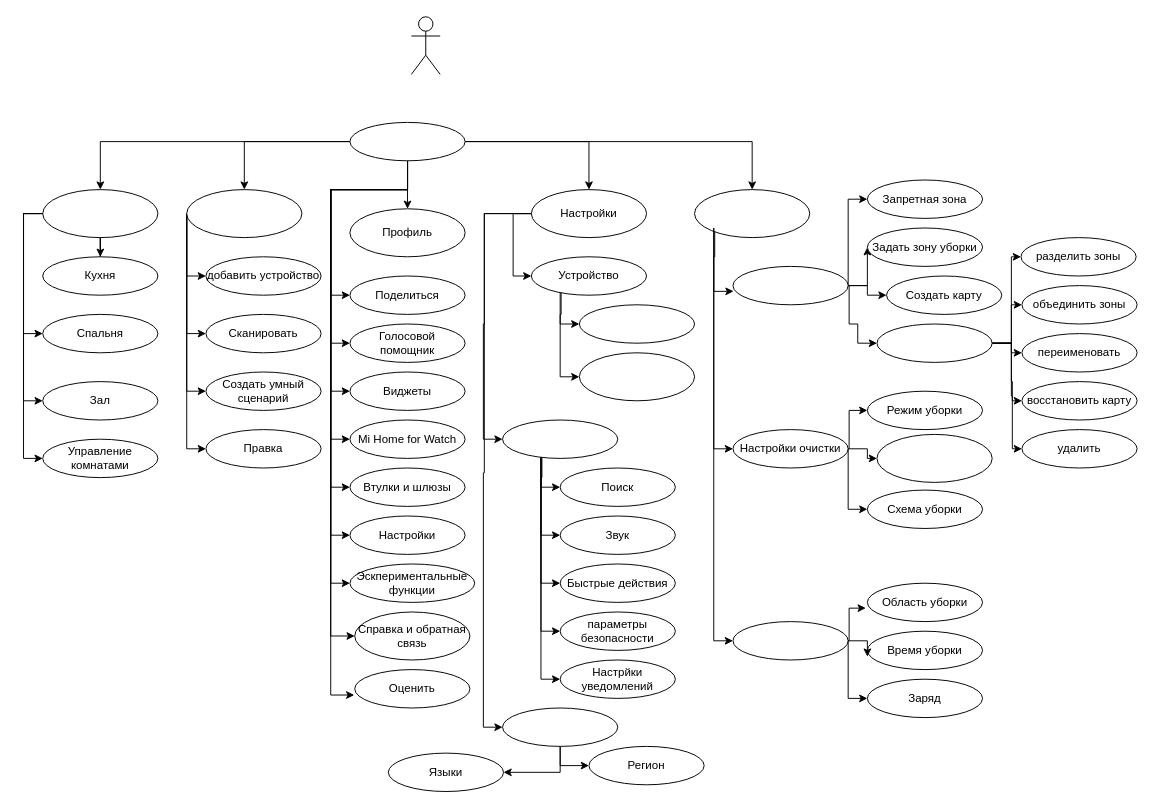
Some shapes in this 1154 by 808 pixel diagram are drawn without their labels. Here are the shapes that lost their labels. From the top down, the centre of each, then its label:
(425,45): Actor
(407,141): Mi Home
(100,213): Помещения
(244,213): Устройства
(752,213): Уборка и ее параметры
(790,285): Карта
(636,323): Управление домом
(934,342): Существующая карта
(636,376): Проверить наличие обновлений
(560,438): Общие
(934,457): Последовательность уборки
(790,640): Параметры
(560,726): Язык и регион
